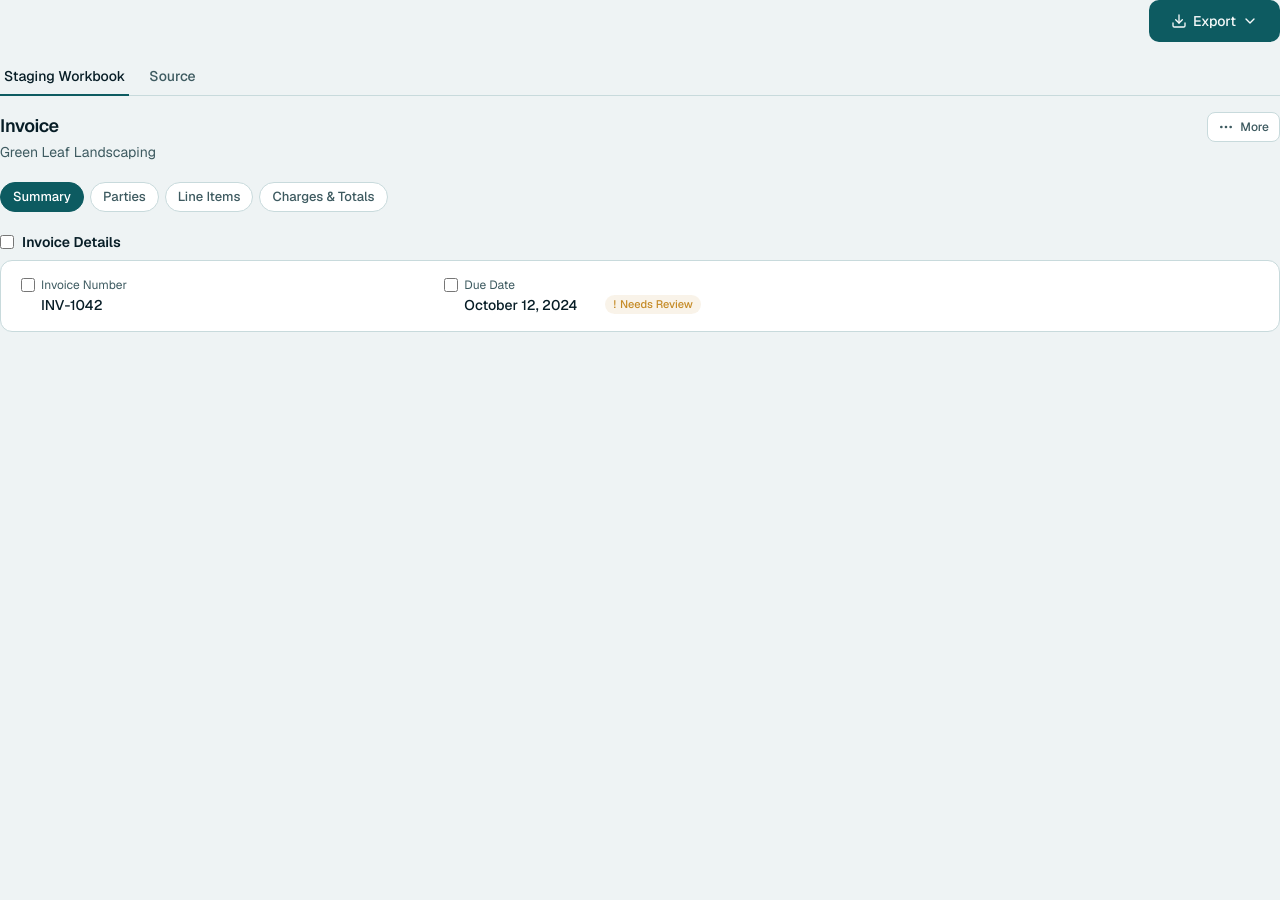
Test: Invoice presentation › omits blank fields and replaces per-row OCR warnings with a review indicator
The image size is (1280, 900).
Check: the text "INV-1042" is shown, box x1=41 y1=294 x2=102 y2=314
Check: the text "OCR confidence" is not shown
Step 1. Click the button "! Needs Review" → click(653, 304), box x1=605 y1=295 x2=701 y2=314
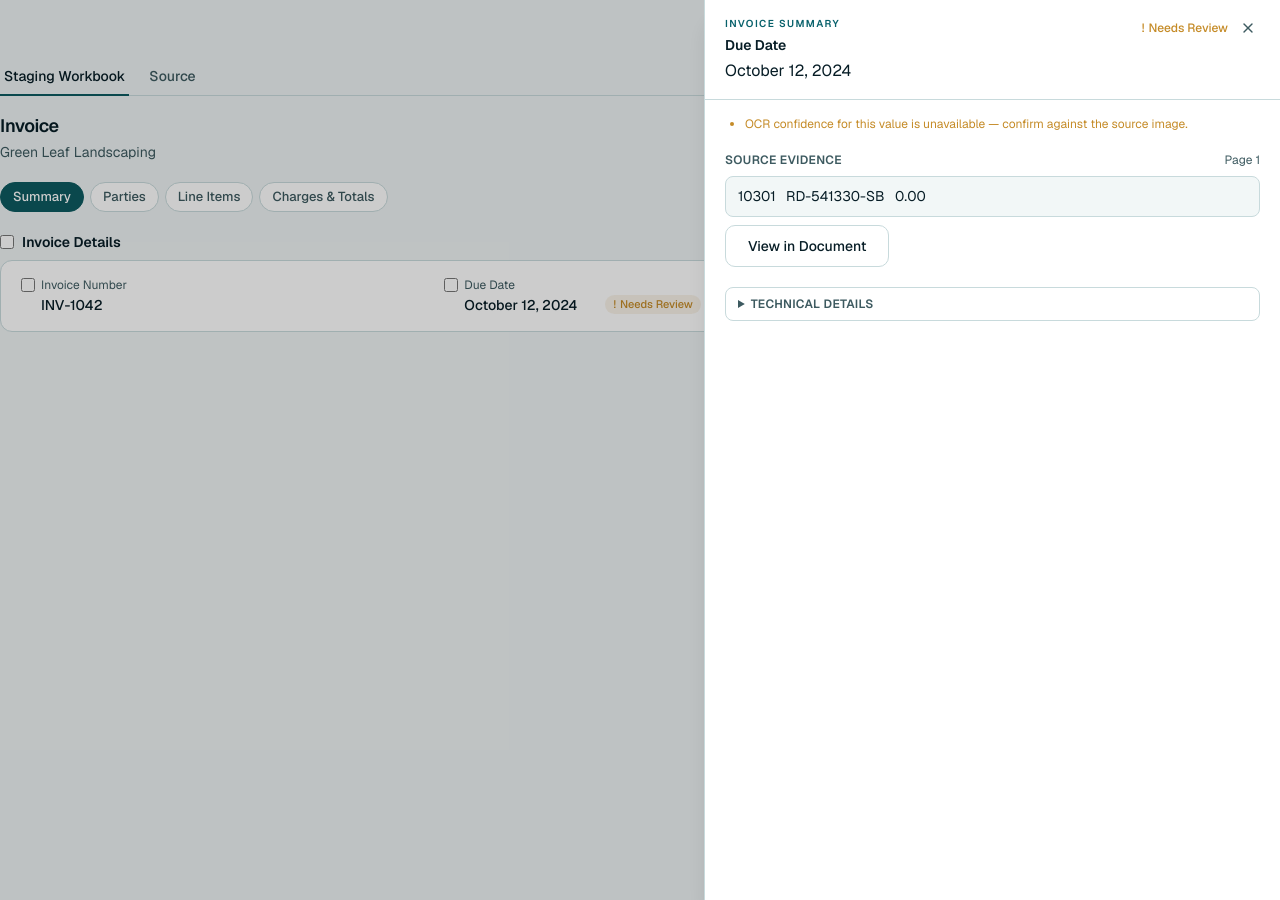
Check: the dialog named "Evidence" shows "OCR confidence for this value is unavailable", box x1=745 y1=116 x2=1188 y2=132
Step 2. Click the button named "Close" → click(1248, 28), box x1=1236 y1=16 x2=1260 y2=40
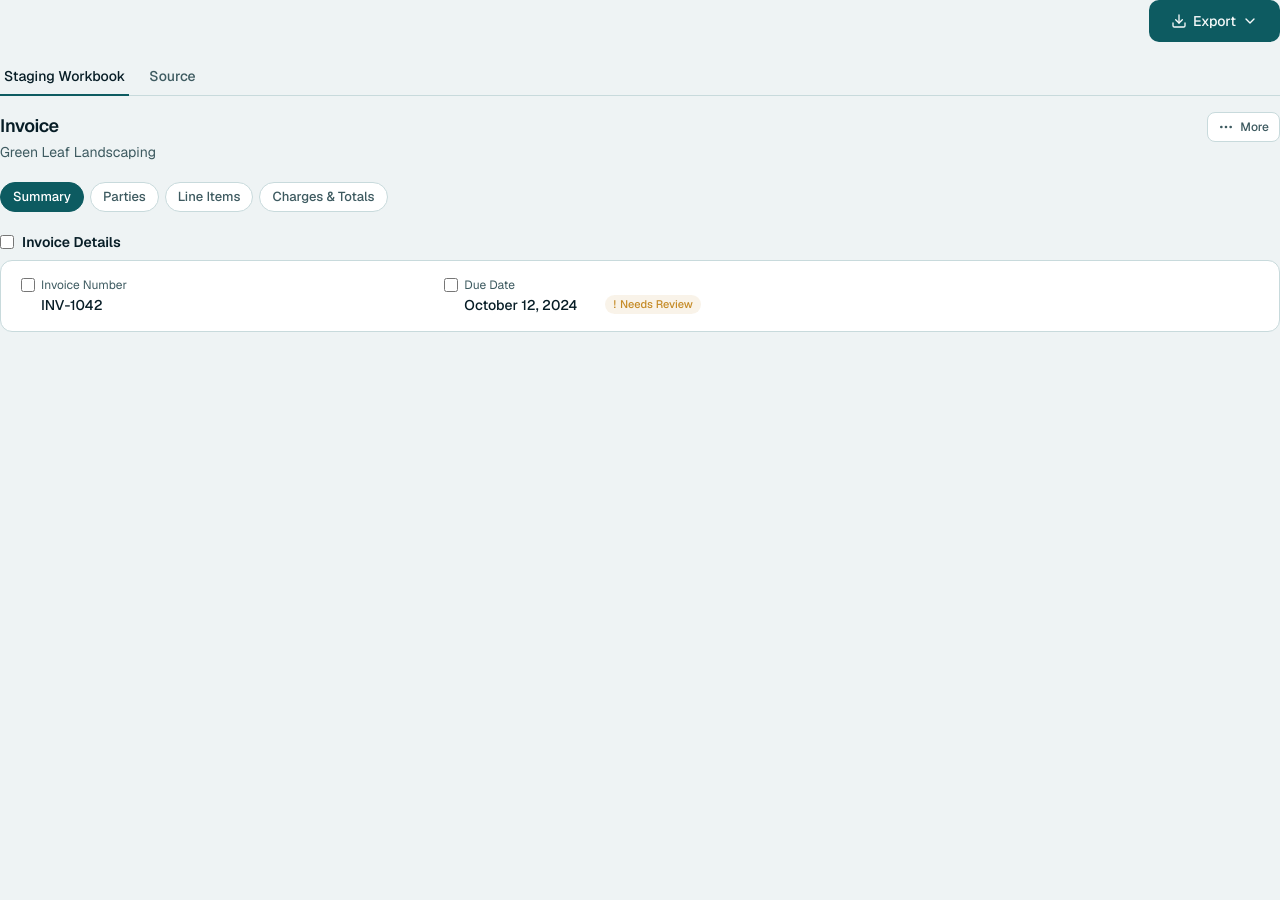
Step 3. Click the tab "Parties" → click(124, 197), box x1=90 y1=182 x2=159 y2=212
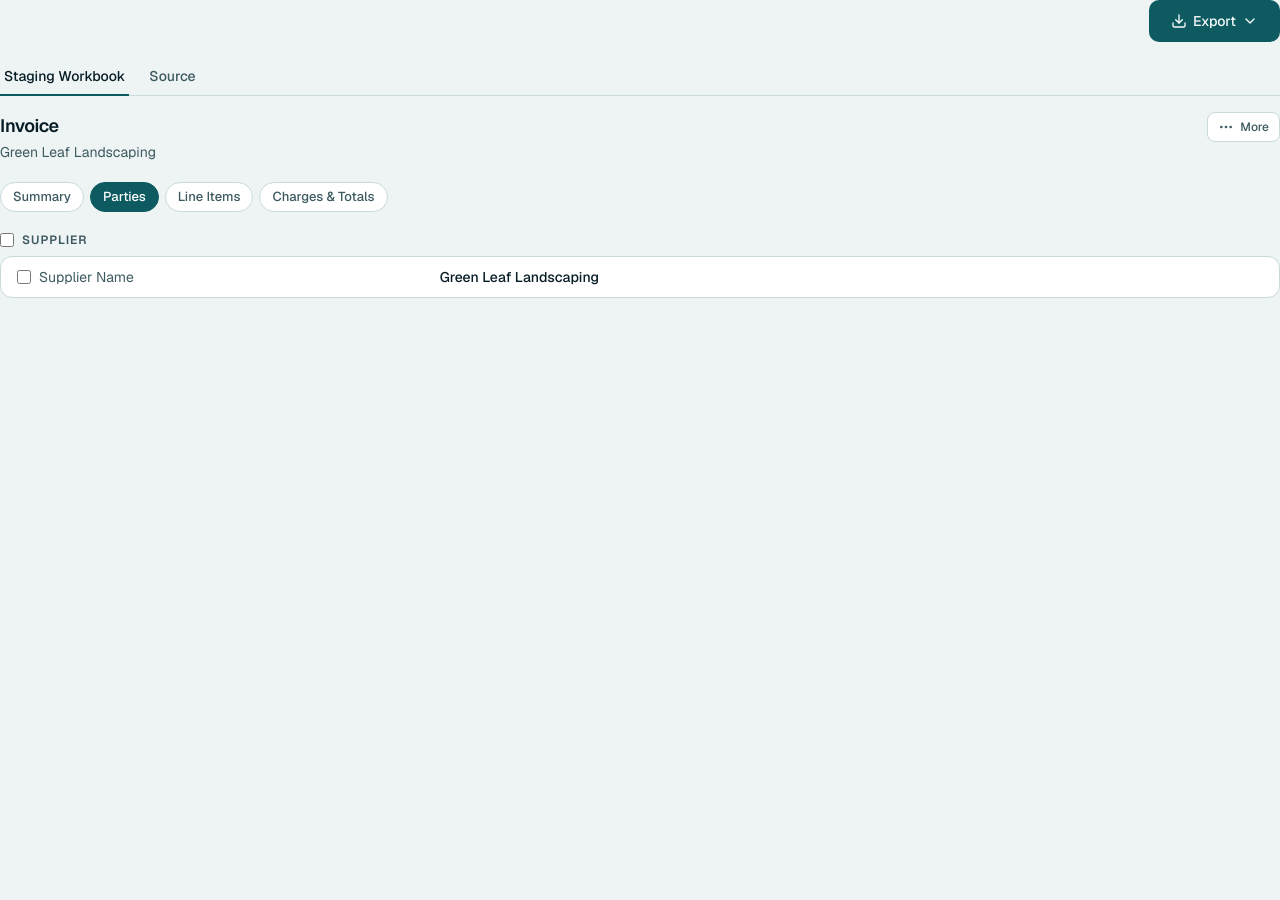
Check: the text "Green Leaf Landscaping" in the row of "Supplier Name" is shown, box x1=440 y1=268 x2=599 y2=286
